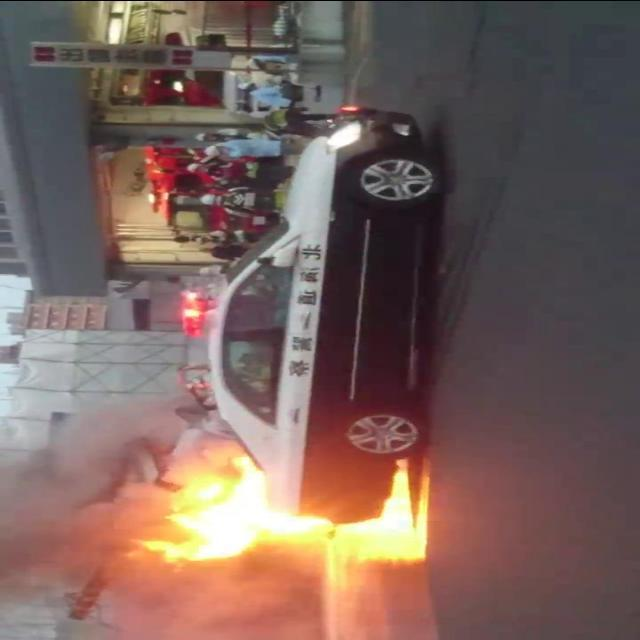Fire: (144, 453, 423, 565)
